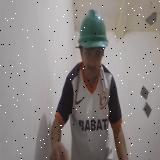Helmet: (79, 8, 109, 50)
